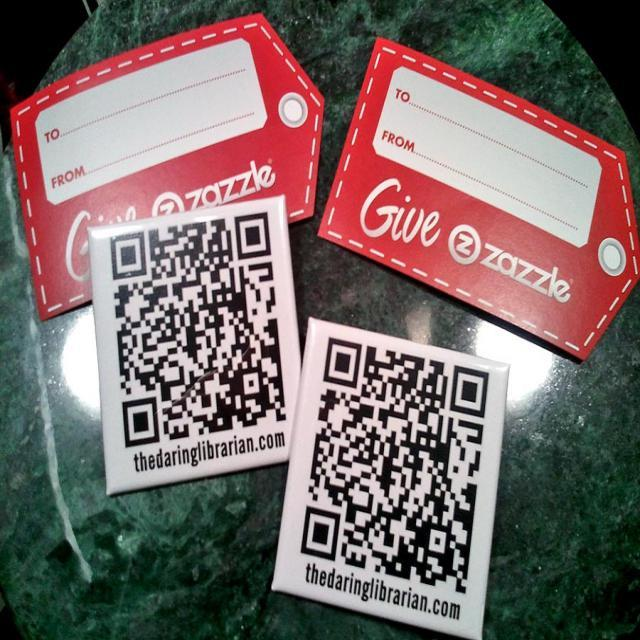qrcode: (301, 337, 490, 595), (110, 213, 287, 448)
